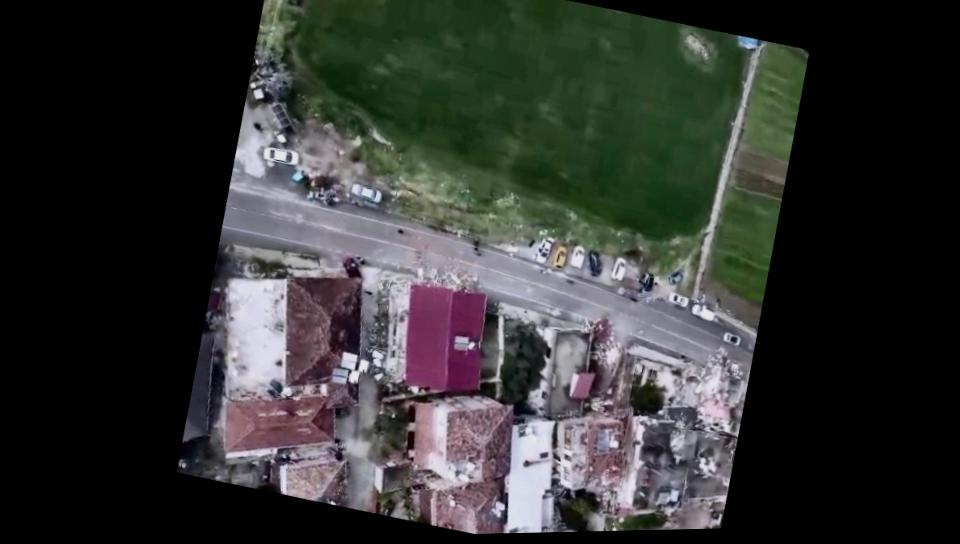kapali: (588, 325, 633, 531), (357, 275, 384, 406)
